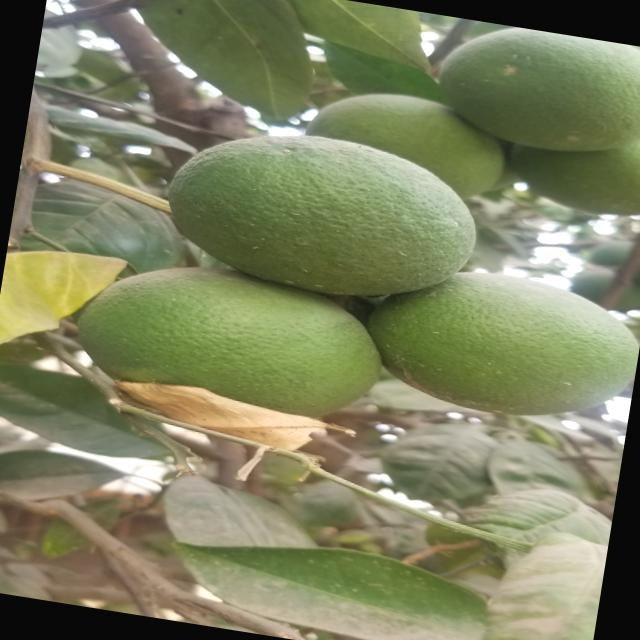agrume: (81, 250, 407, 460), (158, 119, 490, 321), (395, 254, 636, 442), (425, 16, 640, 173)
